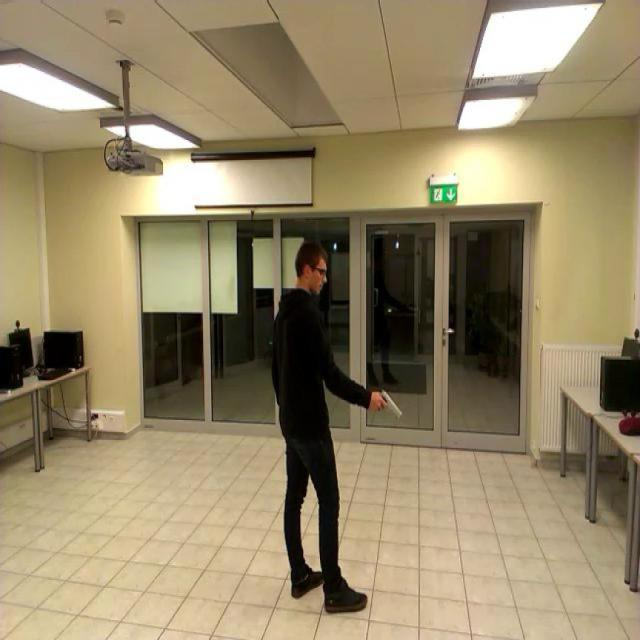pistol: (373, 387, 401, 418)
